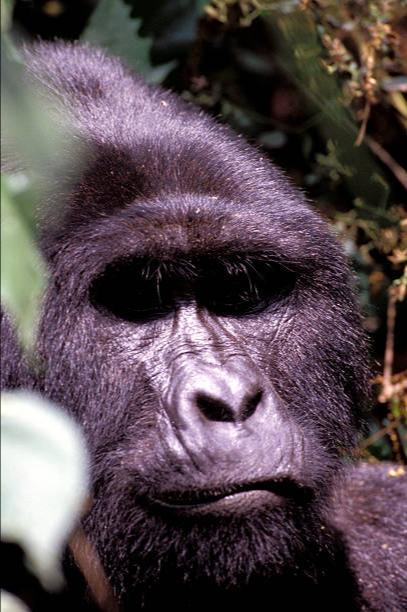goriile_montagne: (2, 0, 407, 607)
